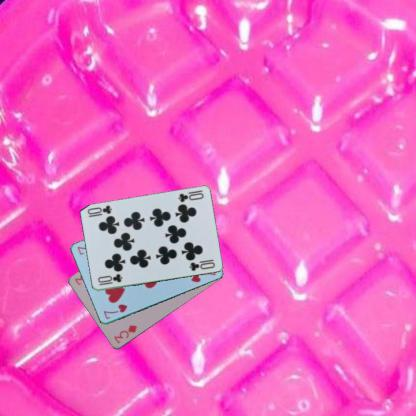10c: (95, 272, 124, 286), (176, 191, 204, 203)
3d: (111, 322, 138, 345)
7h: (101, 302, 128, 320)
